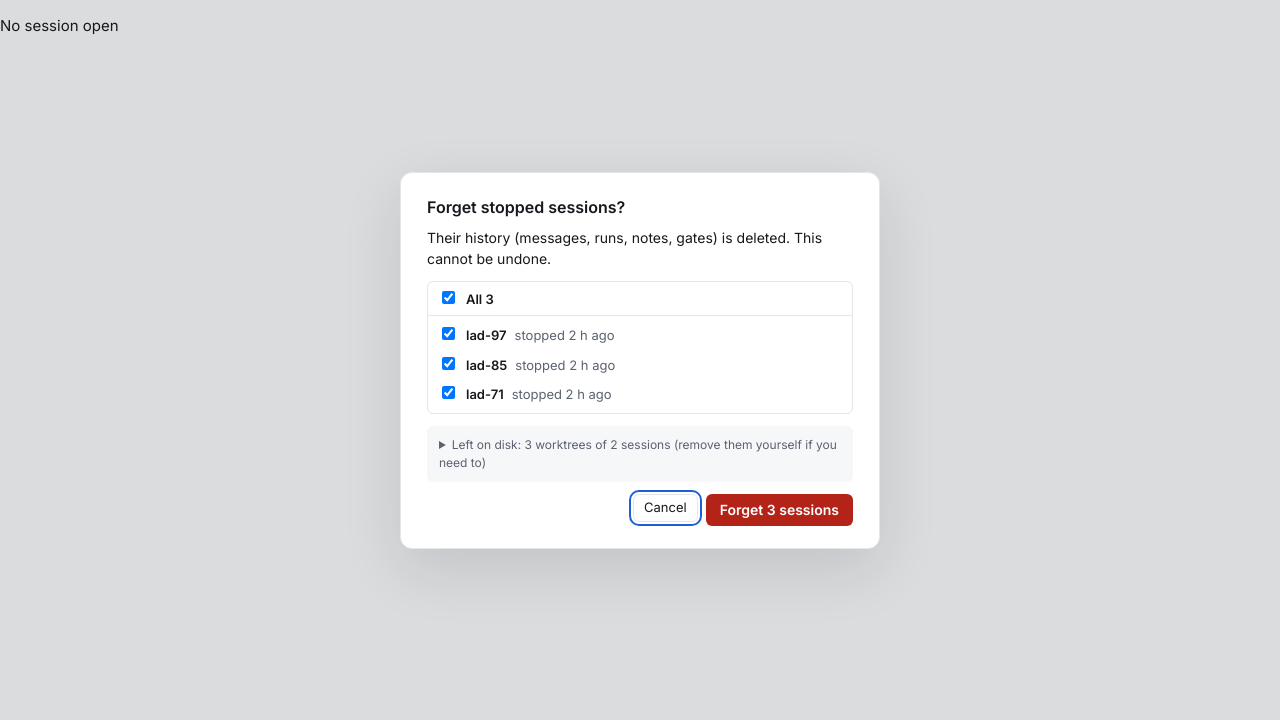
Test case: the worktrees the ticked sessions leave on disk are listed under a folded line
Click the checkbox labelled "lad-97 stopped 2 h ago" at point(448, 334), box [442,327,455,340]
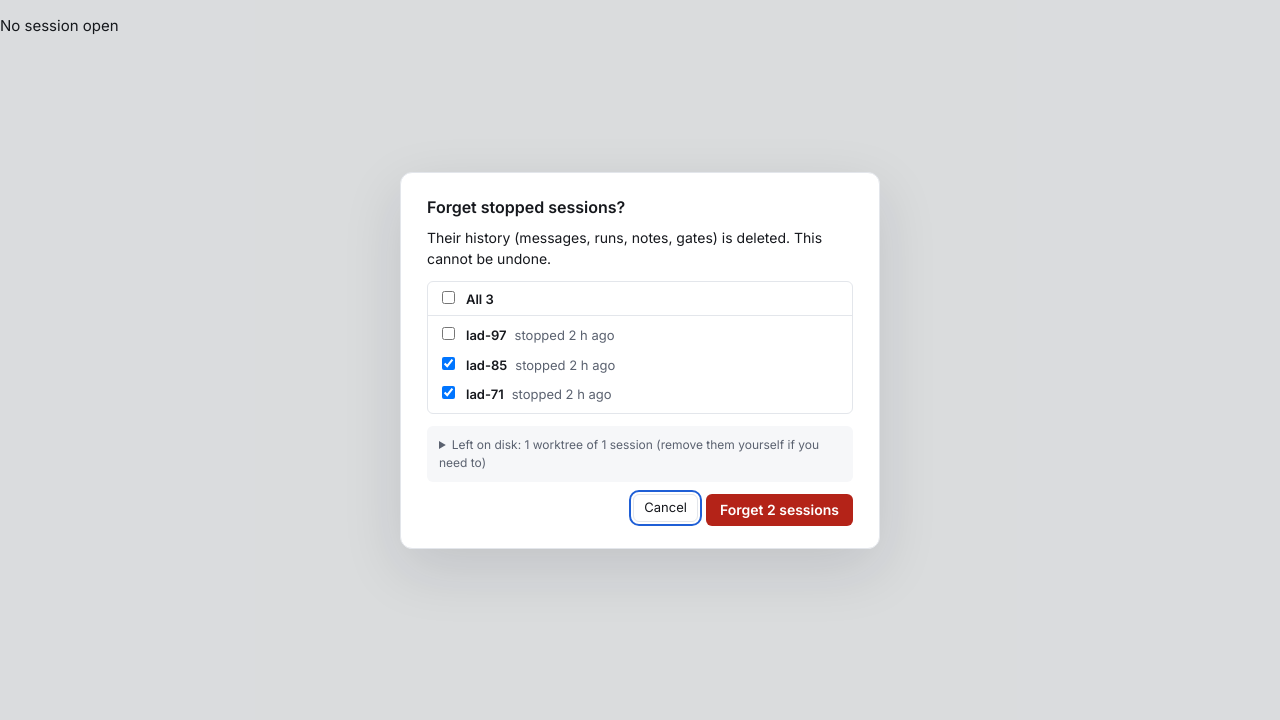
expect the heading "Left on disk: 1 worktree of 1 session (remove them yourself if you need to)" is shown: met, box [439,436,841,472]
Click the checkbox labelled "lad-85 stopped 2 h ago" at point(448, 363), box [442,356,455,370]
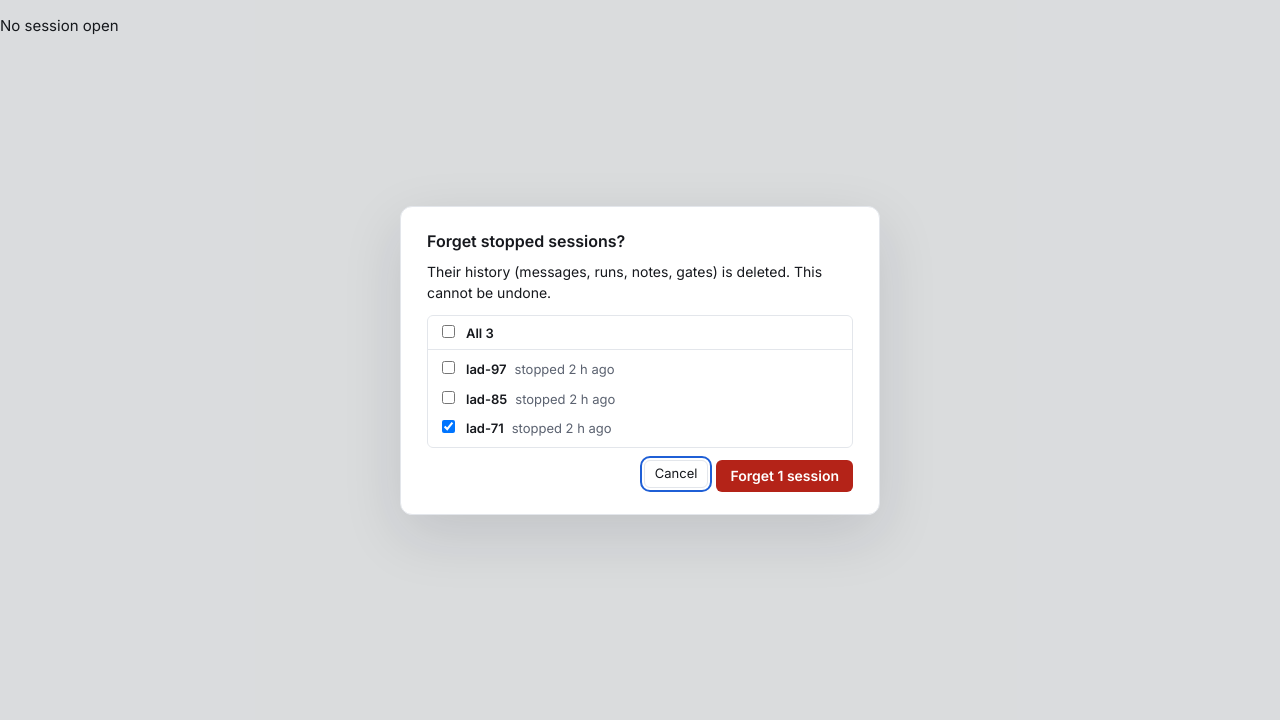
expect the heading "Left on disk" is gone: met
